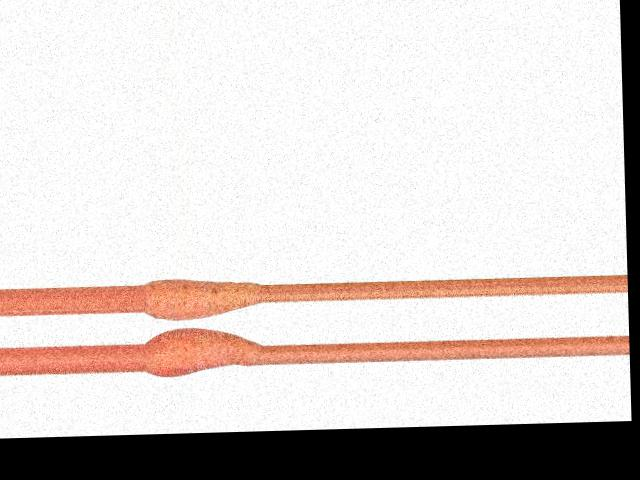sweet_potato: (142, 278, 259, 322)
